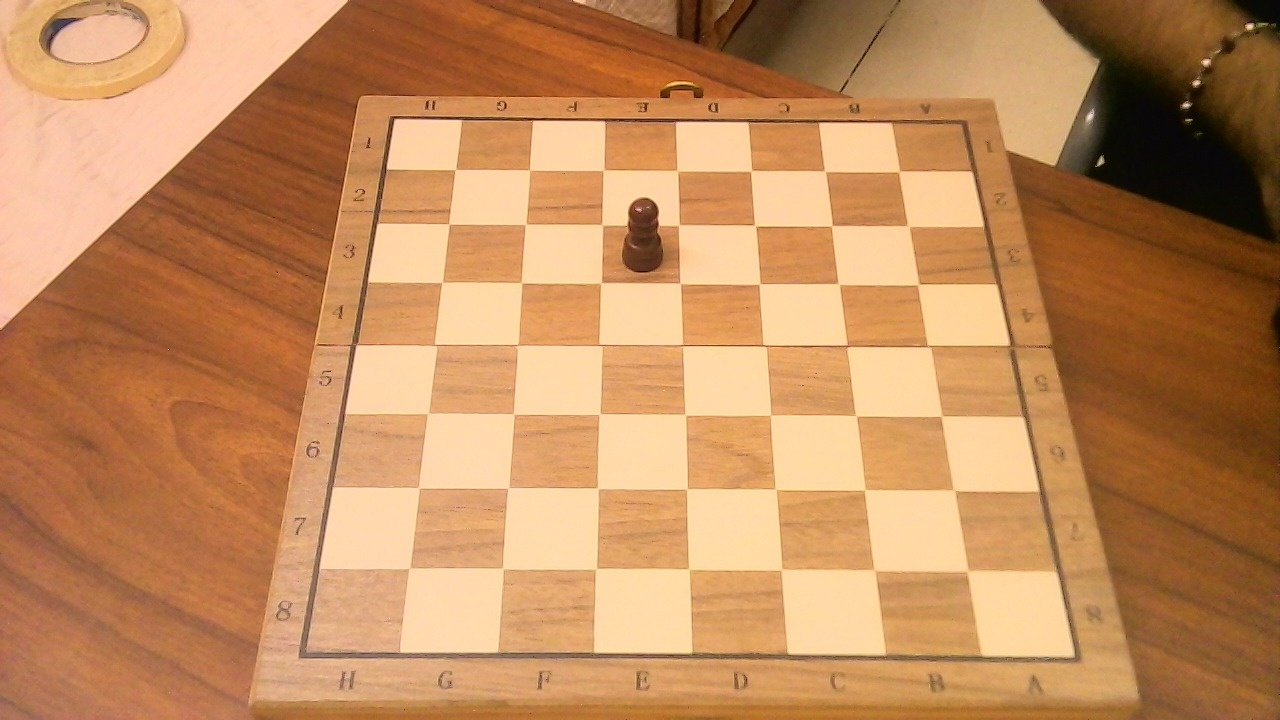p: (616, 191, 678, 280)
